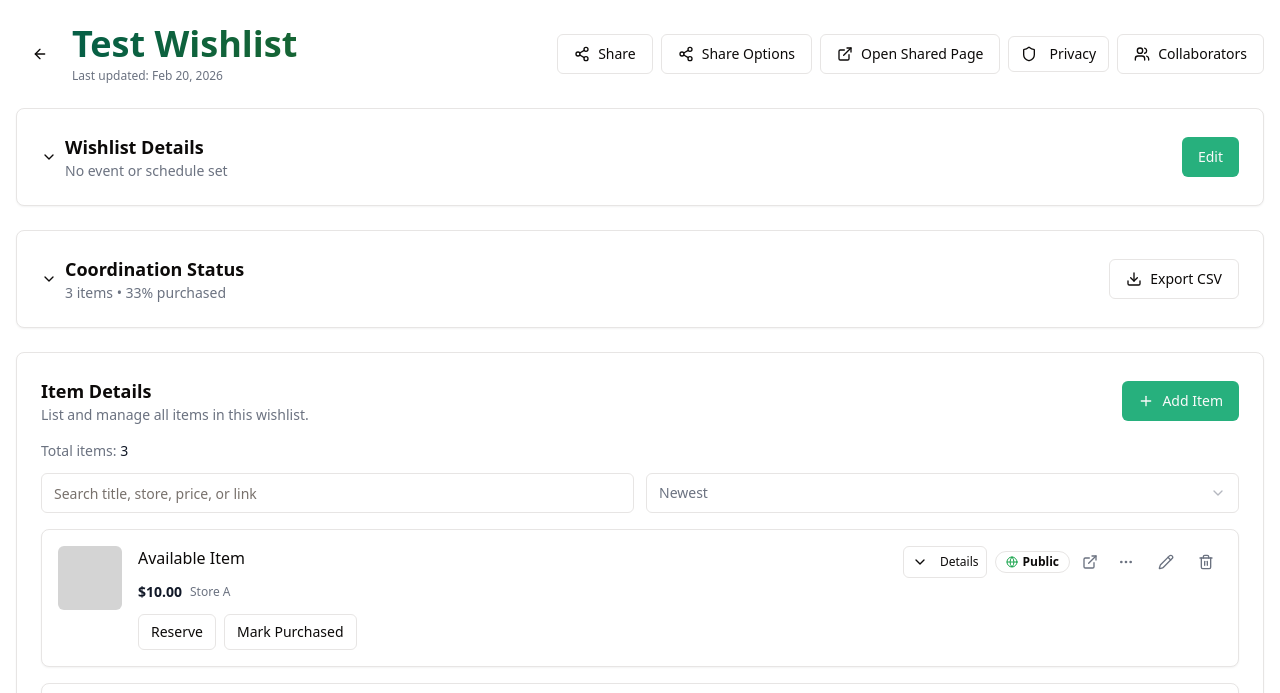
Test: WishlistDetail Item CRUD › renders coordinator status summary for available, reserved, and purchased items
Expected: the heading "Test Wishlist" is shown, [72, 24, 297, 64]
Expected: the heading "Coordination Status" is shown, [65, 255, 244, 283]
What coordinates should you click on to do the following:
click the button with test id "wishlist-detail-toggle-coordination"
I would click on:
 (143, 279)
Its box is [41, 255, 244, 303].
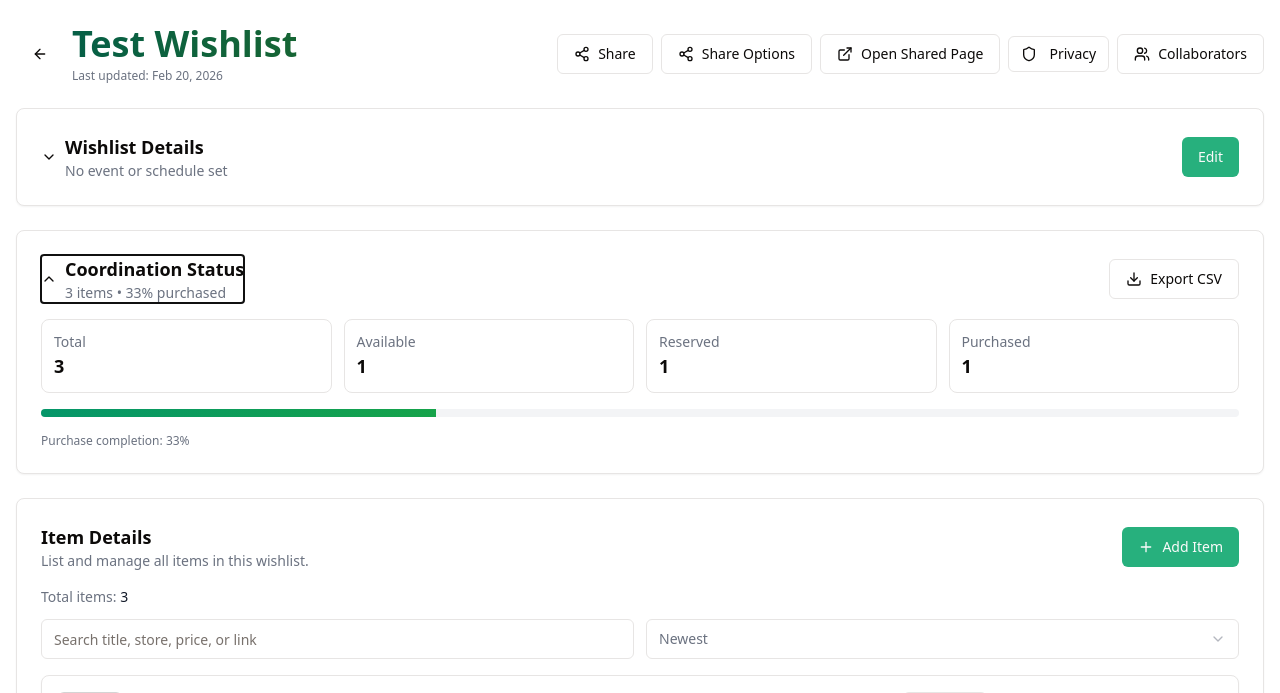
Now the text "Purchase completion: 33%" is shown, box [41, 432, 190, 449]
